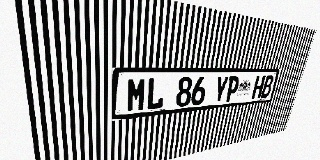6: (190, 76, 208, 106)
8: (175, 77, 194, 107)
B: (260, 75, 274, 98)
H: (251, 75, 266, 99)
L: (146, 77, 166, 110)
M: (126, 78, 147, 112)
P: (224, 76, 240, 102)
Y: (212, 76, 229, 103)
